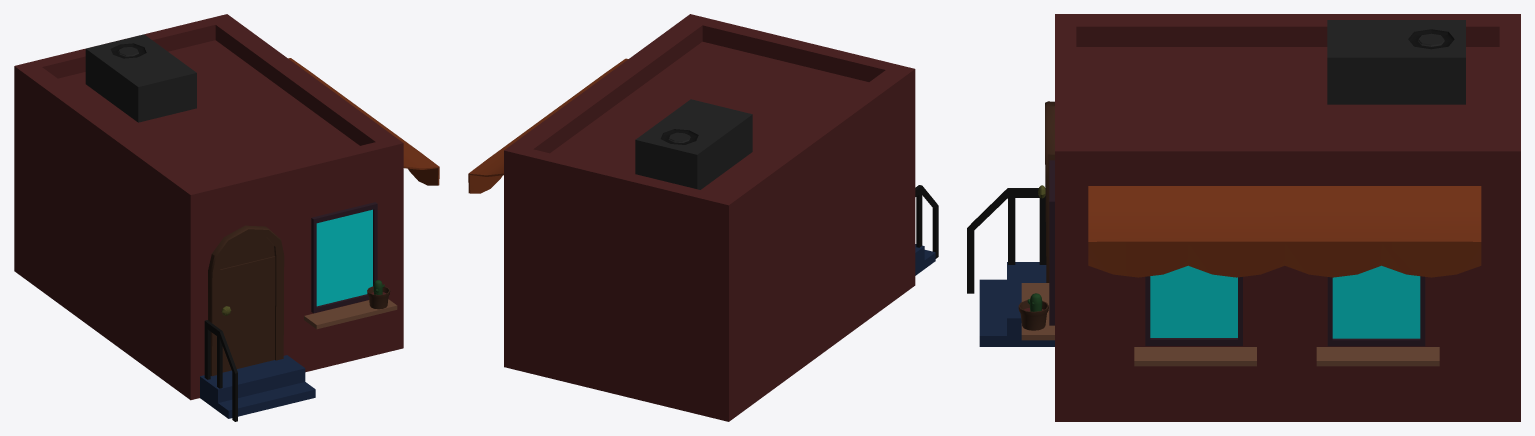
The model's file is Taberna.fbx.
3 renders of one model, left to right at view 1: azimuth 30°, elevation 25°; view 2: azimuth 150°, elevation 25°; view 3: azimuth 270°, elevation 25°, orthographic. The views are drawn at different scales.
Visible parts, largest first — view 1: polySurface1; view 2: polySurface1; view 3: polySurface1.
Boxes of the visible parts, box(x1,y1,x2,y2) form: polySurface1: box(14, 14, 439, 421); polySurface1: box(468, 14, 938, 421); polySurface1: box(967, 14, 1520, 421).
Size of the model in its own units: 824 by 677 by 1142.
